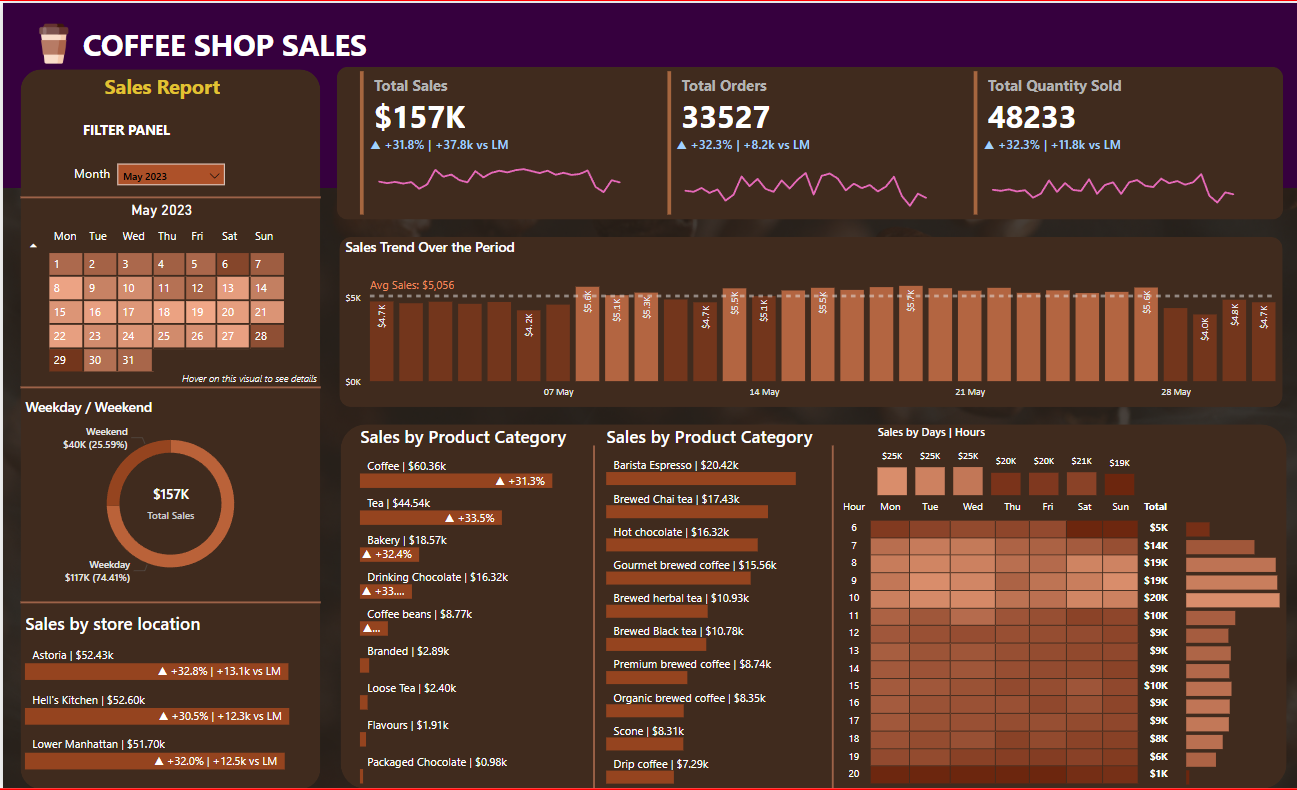

The page's visual inventory and layout, read from the dashboard file:
{"tool":"powerbi","page":{"name":"Page 1","canvas":[1400,850],"ordinal":0},"visuals":[{"type":"shape","box":[0,0,1400,200],"z":0},{"type":"shape","box":[18.6,71.4,324.3,778.6],"z":1000},{"type":"shape","box":[360.9,69.6,1023.2,165.2],"z":2000},{"type":"textbox","box":[81.4,17.1,330,52.9],"z":3000},{"type":"cardVisual","fields":{"Data":["Table1.Total Sales"]},"box":[381.2,69.6,300,165.2],"z":4000},{"type":"slicer","fields":{"Values":["Date Table.Month Year"]},"box":[118.6,168.6,125.7,31.4],"z":5000},{"type":"lineChart","fields":{"Y":["Table1.Total Sales"],"Category":["Date Table.Date Hierarchy.Date"]},"box":[391.4,142.9,290,81.4],"z":6000},{"type":"cardVisual","fields":{"Data":["Table1.Total Quantity Sold"]},"box":[1044.9,69.6,300,165.2],"z":7000},{"type":"cardVisual","fields":{"Data":["Table1.Total Orders"]},"box":[713,69.6,300,165.2],"z":8000},{"type":"lineChart","fields":{"Category":["Date Table.Date Hierarchy.Date"],"Y":["Table1.Total Quantity Sold"]},"box":[1055.1,143.5,289.9,82.6],"z":9000},{"type":"lineChart","fields":{"Category":["Date Table.Date Hierarchy.Date"],"Y":["Table1.Total Orders"]},"box":[723.3,142.9,290,82.9],"z":10000},{"type":"pivotTable","fields":{"Rows":["Date Table.Week Number"],"Columns":["Date Table.Day Name"],"Values":["Min(Date Table.Day Number)"]},"box":[18.6,235.7,305.7,190],"z":11000},{"type":"card","fields":{"Values":["Min(Date Table.Month Year)"]},"box":[128.6,211.4,87.1,28.6],"z":12000},{"type":"card","fields":{"Values":["Table1.FOOT NOTE"]},"box":[171.4,391.4,190,34.3],"z":13000},{"type":"shape","box":[18.8,405.8,324.6,20.3],"z":14000},{"type":"shape","box":[364.3,455.7,1022.9,394.3],"z":15000},{"type":"shape","box":[18.8,200,324.6,20.3],"z":16000},{"type":"donutChart","title":"Weekday / Weekend","fields":{"Category":["Date Table.Weekday / Weekend"],"Y":["Table1.Total Sales"]},"box":[18.8,426.1,324.6,211.6],"z":17000},{"type":"card","fields":{"Values":["Table1.Total Sales"]},"box":[133.3,492.8,95.7,92.8],"z":18000},{"type":"shape","box":[18.8,637.7,324.6,20.3],"z":19000},{"type":"clusteredBarChart","title":"Sales by store location","fields":{"Category":["Table1.store_location"],"Y":["Table1.Placeholder","Table1.Total Sales"]},"box":[18.8,658,324.6,178.3],"z":20000},{"type":"shape","box":[362.9,252.9,1020,184.3],"z":21000},{"type":"columnChart","title":"Sales Trend Over the Period","fields":{"Category":["Table1.transaction_date"],"Y":["Table1.Total Sales"]},"box":[364.3,252.9,1020,184.3],"z":22000},{"type":"clusteredBarChart","title":"Sales by Product Category","fields":{"Y":["Table1.Placeholder","Table1.Total Sales"],"Category":["Table1.product_category"]},"box":[381.4,455.7,250,394.3],"z":23000},{"type":"shape","box":[631.4,478.6,15.7,371.4],"z":24000},{"type":"clusteredBarChart","title":"Sales by Product Category","fields":{"Y":["Table1.Placeholder","Table1.Total Sales"],"Category":["Table1.product_type"]},"box":[647.1,455.7,250,394.3],"z":25000},{"type":"shape","box":[888.6,478.6,15.7,371.4],"z":26000},{"type":"pivotTable","fields":{"Rows":["Table1.Hour"],"Values":["Table1.Total Sales"],"Columns":["Date Table.Day Name"]},"box":[897.1,532.9,377.1,317.1],"z":27000},{"type":"barChart","fields":{"Category":["Table1.Hour"],"Y":["Table1.Total Sales"]},"box":[1274.3,548.6,112.9,301.4],"z":28000},{"type":"columnChart","title":"Sales by Days | Hours","fields":{"Y":["Table1.Total Sales"],"Category":["Date Table.Day Name"]},"box":[940,455.7,288.6,82.9],"z":29000},{"type":"textbox","box":[71.4,170,57.1,30],"z":30000},{"type":"textbox","box":[100,70,144.3,41.4],"z":31000},{"type":"textbox","box":[68.6,121.4,128.6,31.4],"z":32000},{"type":"image","box":[18.6,17.1,71.4,52.9],"z":33000}]}

Visuals, with their boxes in screenshot pixels (x1, y1, x2, y2), scaled from the page's 1400x850 canvas onto the 1297x790 screenshot:
shape: bbox(0, 0, 1296, 186)
shape: bbox(17, 66, 318, 789)
shape: bbox(334, 65, 1282, 218)
textbox: bbox(75, 16, 381, 65)
cardVisual - Table1.Total Sales: bbox(353, 65, 631, 218)
slicer - Date Table.Month Year: bbox(110, 157, 226, 186)
lineChart - Table1.Total Sales x Date Table.Date Hierarchy.Date: bbox(363, 133, 631, 208)
cardVisual - Table1.Total Quantity Sold: bbox(968, 65, 1246, 218)
cardVisual - Table1.Total Orders: bbox(661, 65, 938, 218)
lineChart - Date Table.Date Hierarchy.Date x Table1.Total Quantity Sold: bbox(977, 133, 1246, 210)
lineChart - Date Table.Date Hierarchy.Date x Table1.Total Orders: bbox(670, 133, 939, 210)
pivotTable - Date Table.Week Number x Date Table.Day Name: bbox(17, 219, 300, 396)
card - Min(Date Table.Month Year): bbox(119, 196, 200, 223)
card - Table1.FOOT NOTE: bbox(159, 364, 335, 396)
shape: bbox(17, 377, 318, 396)
shape: bbox(337, 424, 1285, 789)
shape: bbox(17, 186, 318, 205)
"Weekday / Weekend" donutChart: bbox(17, 396, 318, 593)
card - Table1.Total Sales: bbox(123, 458, 212, 544)
shape: bbox(17, 593, 318, 612)
"Sales by store location" clusteredBarChart: bbox(17, 612, 318, 777)
shape: bbox(336, 235, 1281, 406)
"Sales Trend Over the Period" columnChart: bbox(337, 235, 1282, 406)
"Sales by Product Category" clusteredBarChart: bbox(353, 424, 585, 789)
shape: bbox(585, 445, 599, 789)
"Sales by Product Category" clusteredBarChart: bbox(599, 424, 831, 789)
shape: bbox(823, 445, 838, 789)
pivotTable - Table1.Hour x Table1.Total Sales: bbox(831, 495, 1180, 789)
barChart - Table1.Hour x Table1.Total Sales: bbox(1181, 510, 1285, 789)
"Sales by Days | Hours" columnChart: bbox(871, 424, 1138, 501)
textbox: bbox(66, 158, 119, 186)
textbox: bbox(93, 65, 226, 104)
textbox: bbox(64, 113, 183, 142)
image: bbox(17, 16, 83, 65)
